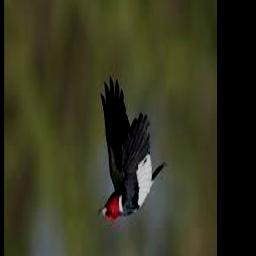Woodpecker: (98, 78, 167, 222)
